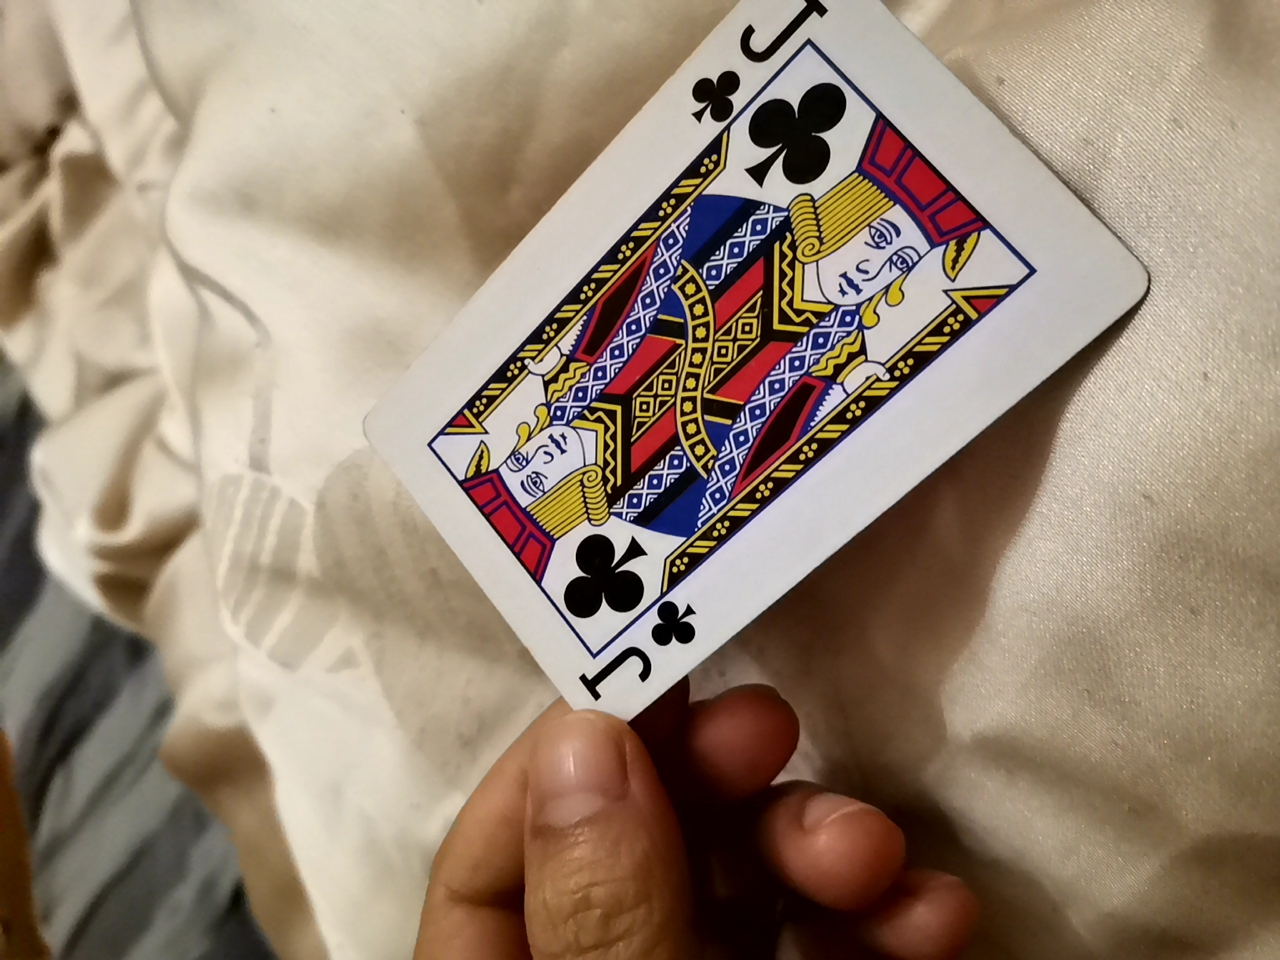mh j: (376, 18, 1128, 750)
